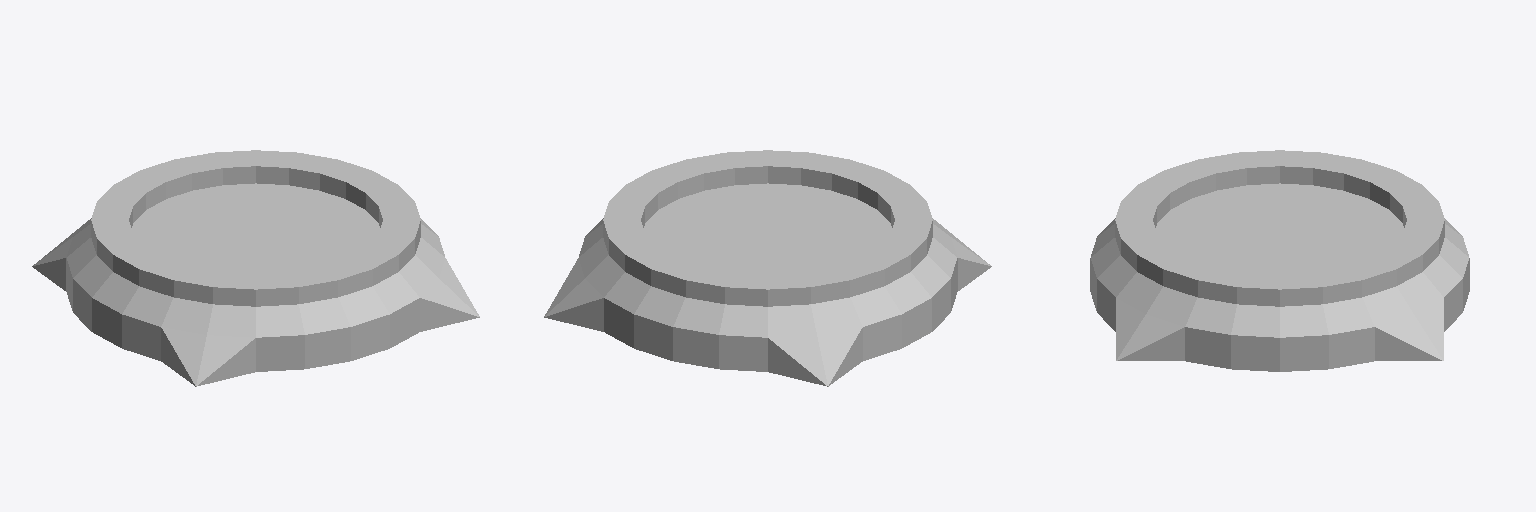
Rendered from towerRound_base.obj.
3 renders of one model, left to right at view 1: azimuth 30°, elevation 25°; view 2: azimuth 150°, elevation 25°; view 3: azimuth 270°, elevation 25°, orthographic.
Visible parts, largest first — view 1: towerRound_base; view 2: towerRound_base; view 3: towerRound_base.
Part boxes in pixels (x1,y1,x2,y2): towerRound_base: (32, 150, 479, 386); towerRound_base: (544, 150, 991, 386); towerRound_base: (1090, 150, 1469, 371).
Bounding box in the file's own units: 1 × 0.21 × 1.